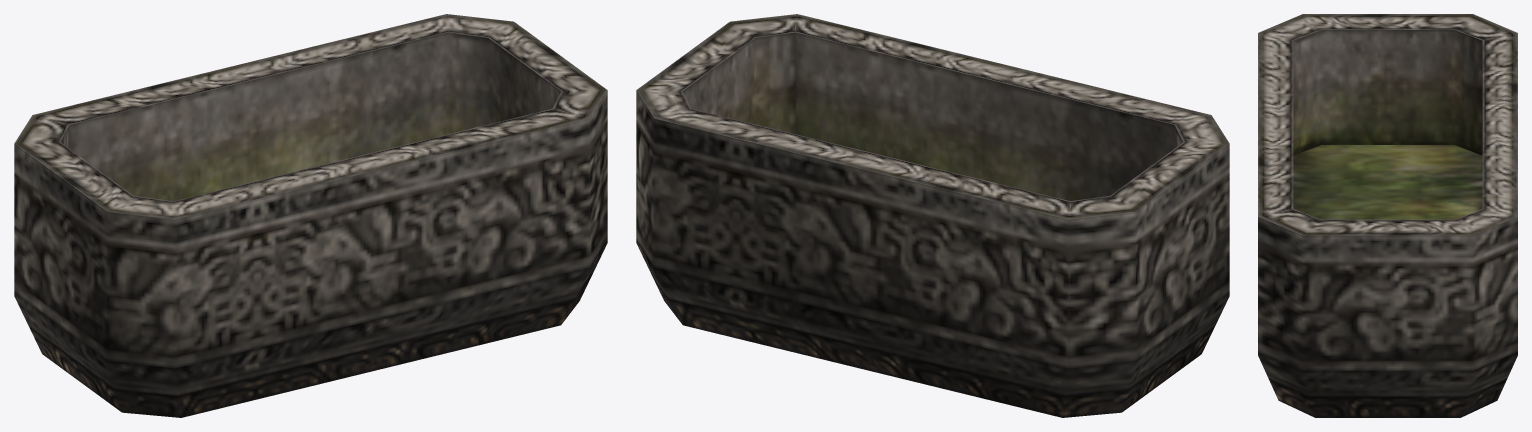
Rendered from shuigang_20.fbx.
3 views of the same model, side by side, from view 1: azimuth 30°, elevation 25°; view 2: azimuth 150°, elevation 25°; view 3: azimuth 270°, elevation 25° (orthographic). The views are drawn at different scales.
Visible parts, largest first — view 1: shuigang_20; view 2: shuigang_20; view 3: shuigang_20.
Boxes of the visible parts, x1=… form: shuigang_20: x1=14, y1=14, x2=607, y2=417; shuigang_20: x1=636, y1=14, x2=1229, y2=417; shuigang_20: x1=1258, y1=14, x2=1517, y2=417.
Size of what is drawn, in the model's own units: 273 by 110 by 135.
